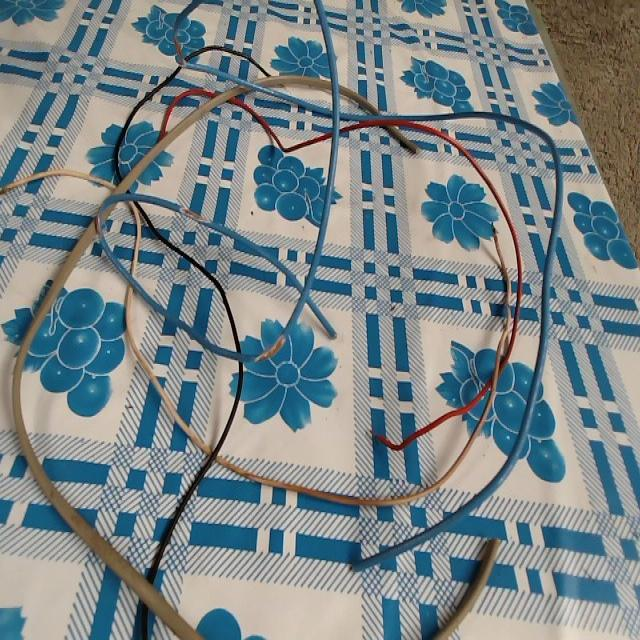-: (251, 331, 287, 366), (170, 33, 189, 68), (178, 203, 208, 225), (91, 212, 110, 244), (367, 427, 381, 444)
